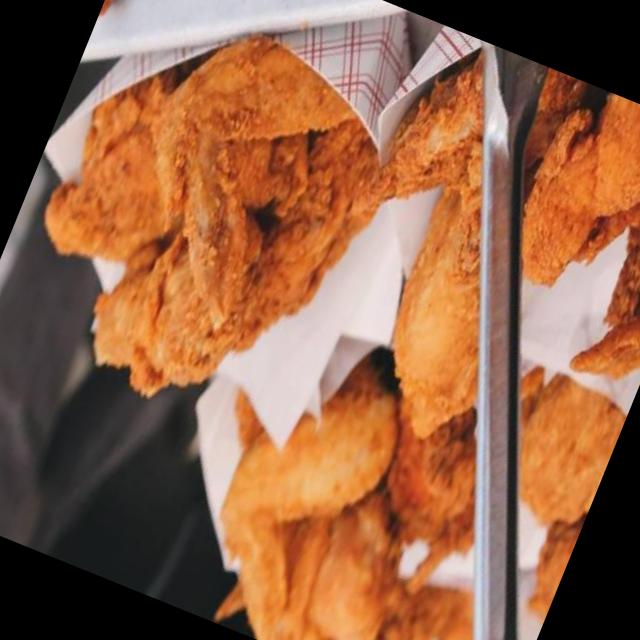Fried Chicken: (44, 34, 483, 437), (216, 362, 475, 640), (524, 67, 640, 379)
